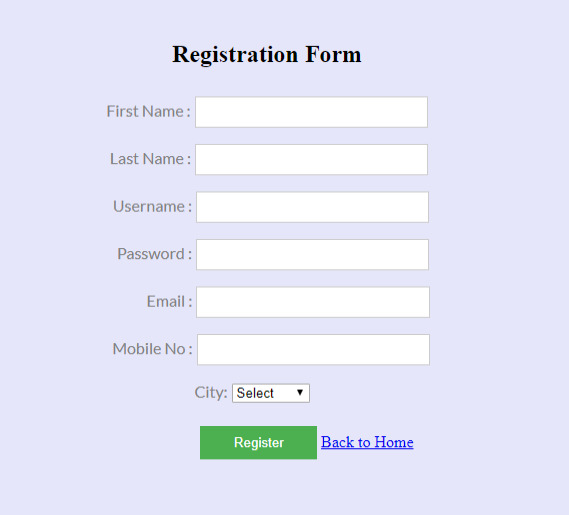_form_: (28, 47, 444, 463)
button: (198, 424, 319, 460)
field: (195, 332, 431, 368), (194, 94, 429, 129), (195, 190, 430, 225), (194, 238, 430, 272), (195, 286, 431, 320), (193, 143, 428, 177)
select: (231, 383, 312, 405)
